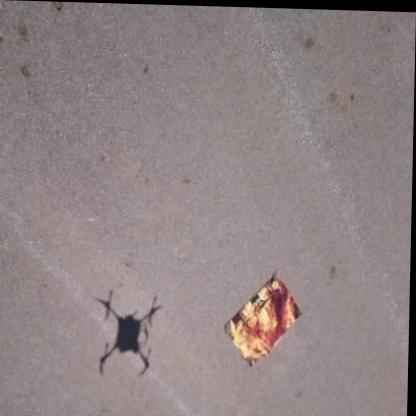fire-poster: (223, 266, 305, 368)
